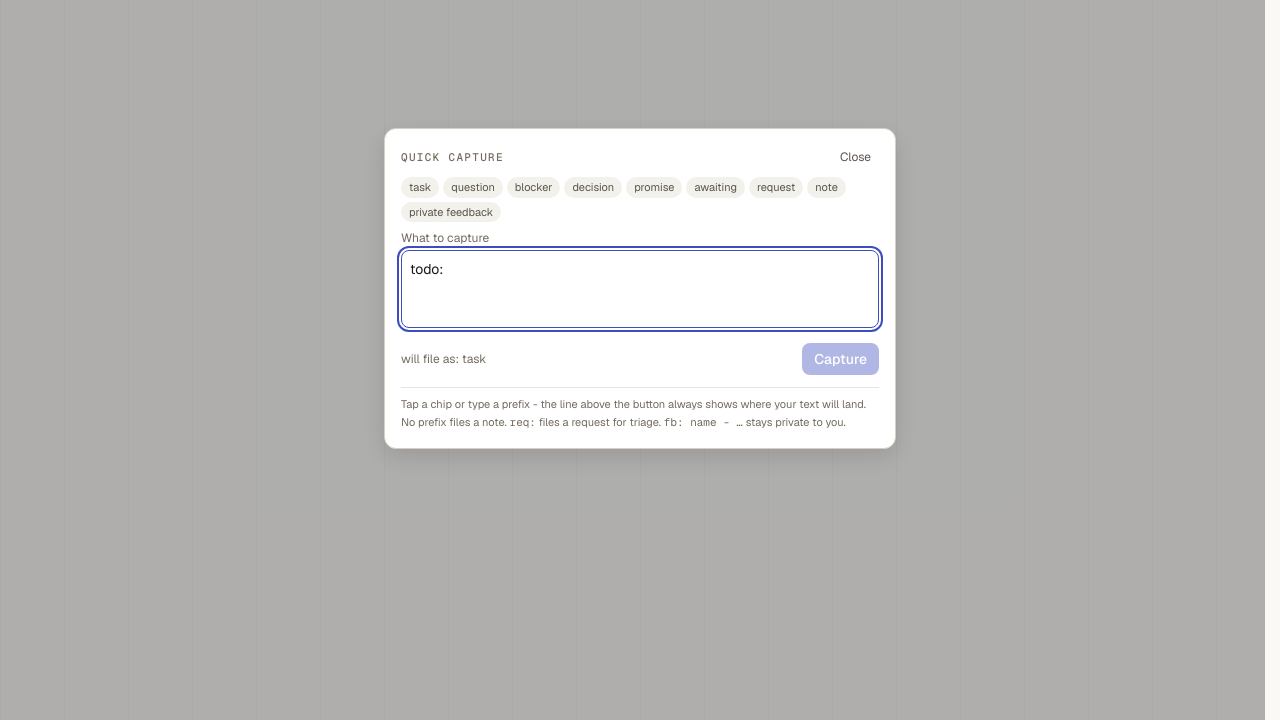
First Watch capture contract › keeps the draft and warns against a blind retry after a transport failure
Replace the text in the text box labelled "What to capture" with "todo: Keep this draft" at (640, 289), box [401,250,879,328]
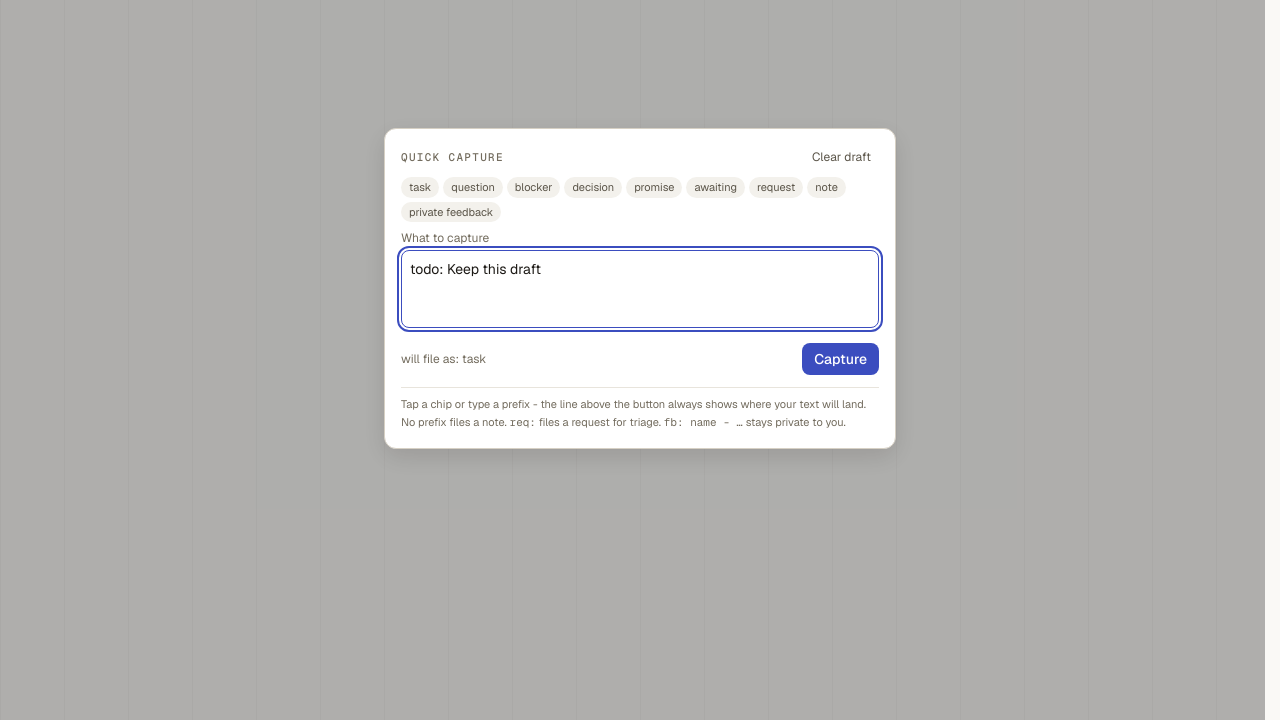
Click the button "Capture" at (841, 359), box [802,343,879,375]
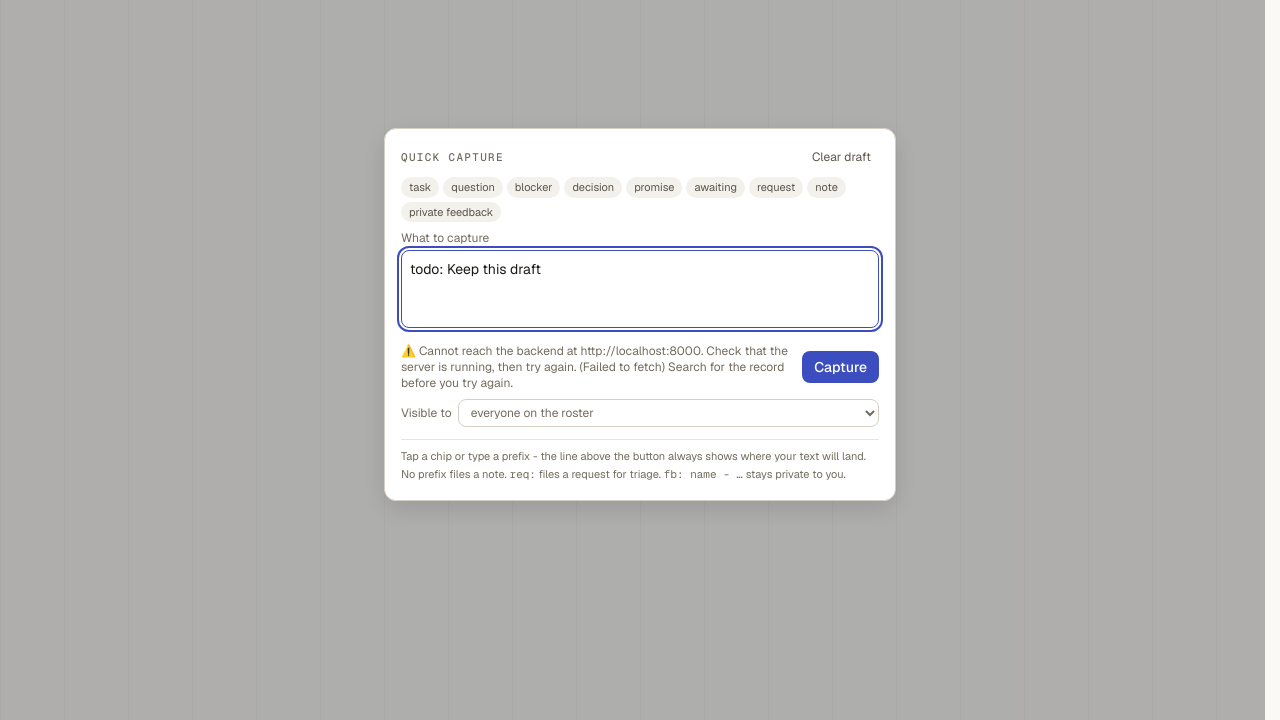
Check: the message shows "Search for the record before you try again", box [401,343,788,391]
